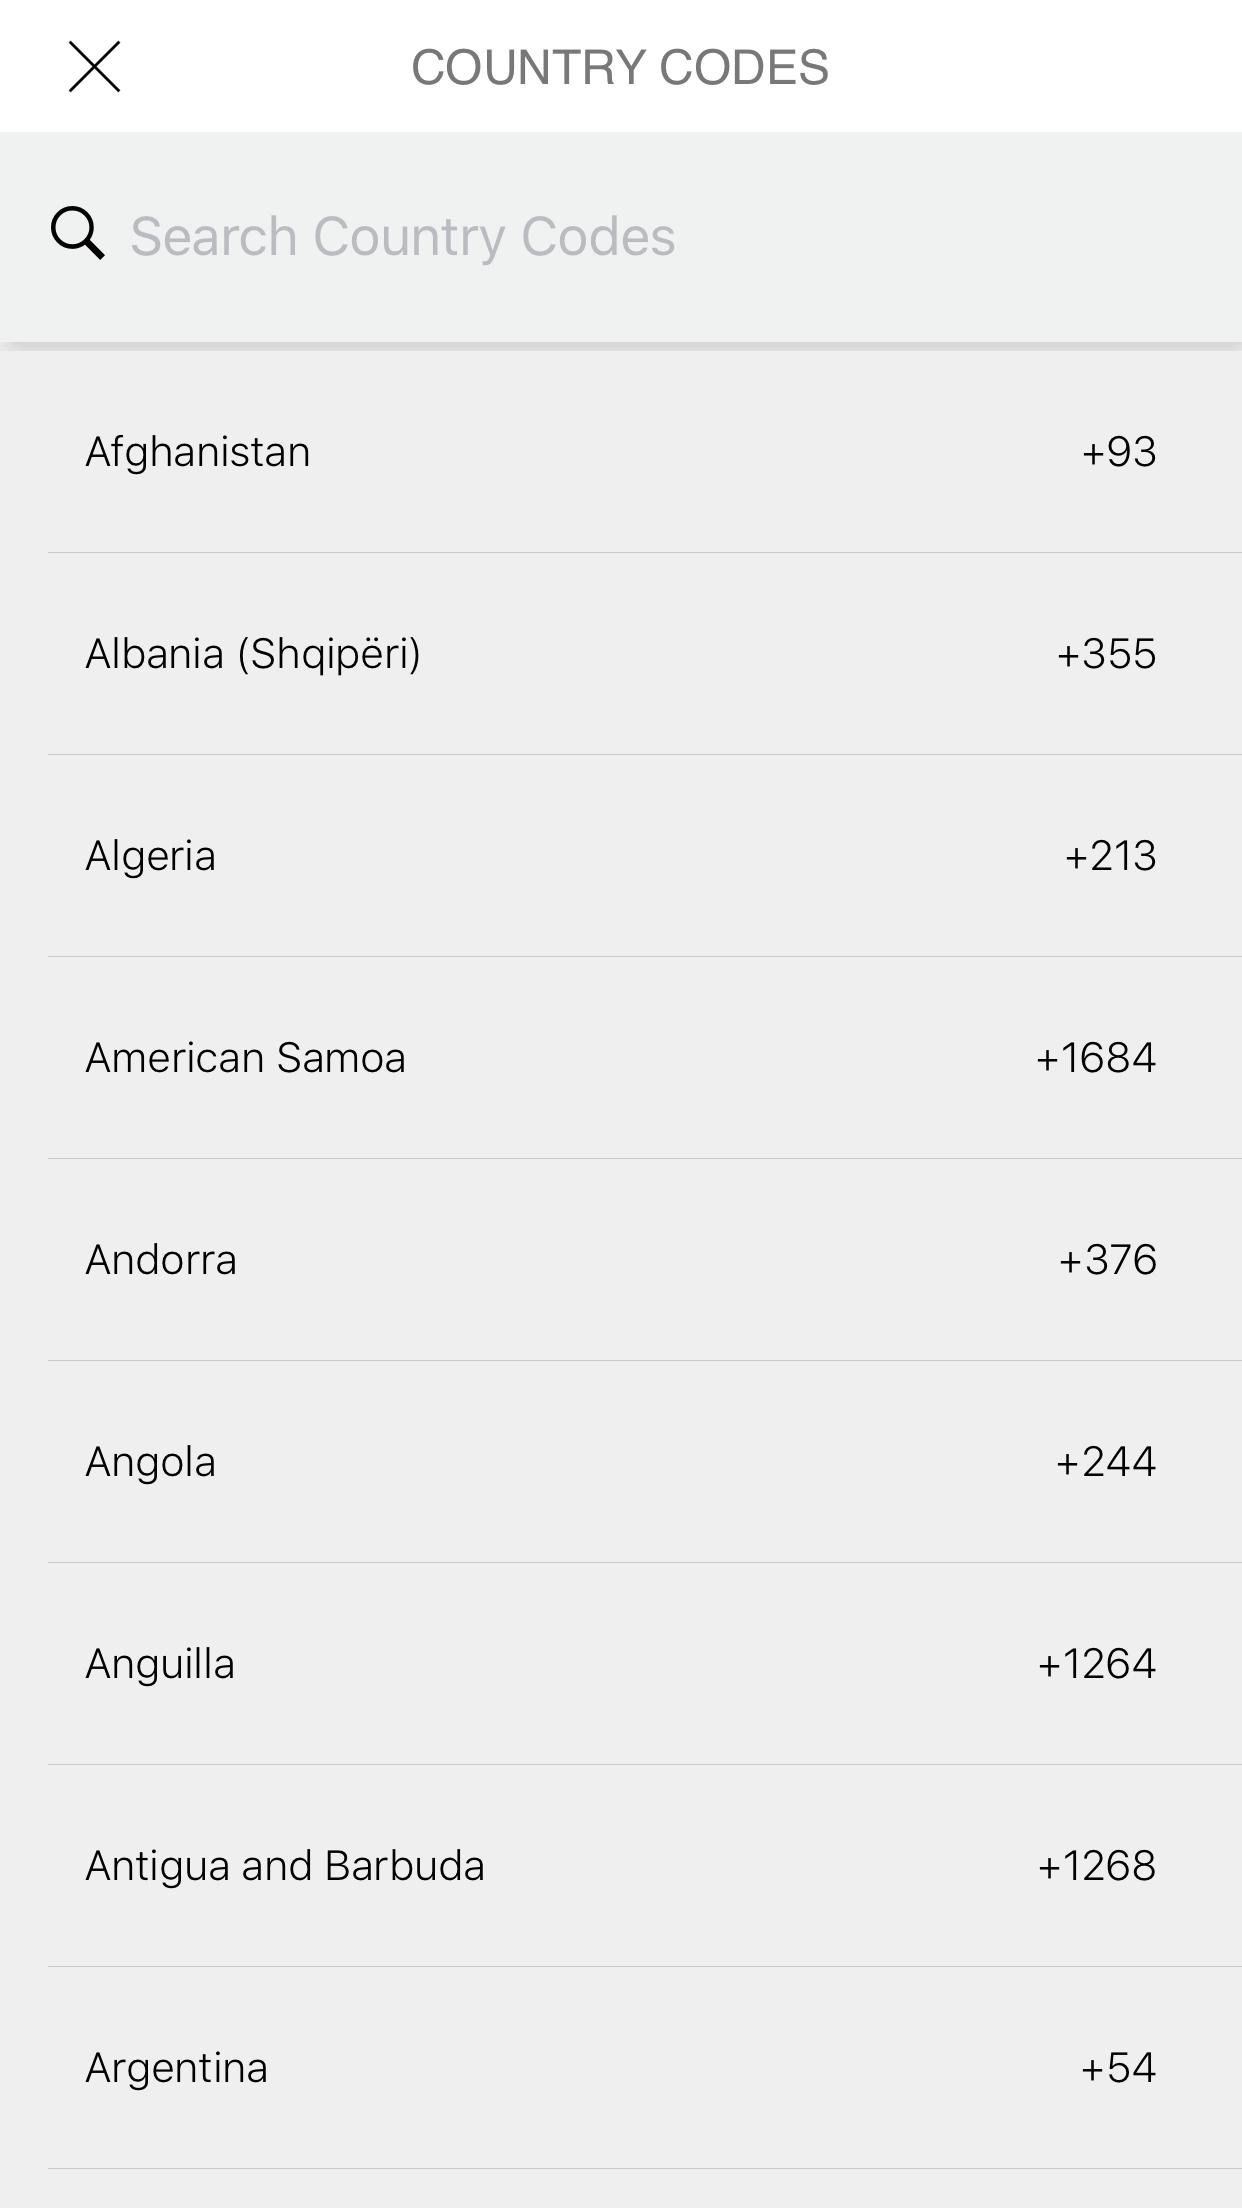Icon: (47, 203, 105, 262), (65, 36, 120, 99)
Text: (132, 211, 673, 267), (411, 44, 830, 85), (83, 1846, 484, 1887), (83, 632, 419, 676), (83, 1040, 405, 1077), (82, 431, 306, 475), (83, 2050, 265, 2093), (83, 1642, 234, 1686), (82, 836, 215, 880), (83, 1239, 237, 1277), (85, 1444, 215, 1485), (1036, 1037, 1156, 1075), (1034, 1847, 1156, 1883), (1037, 1645, 1157, 1680), (1060, 1237, 1156, 1277), (1057, 635, 1156, 673), (1055, 1444, 1157, 1479), (1065, 837, 1154, 870), (1084, 434, 1156, 469), (1080, 2050, 1156, 2082)
